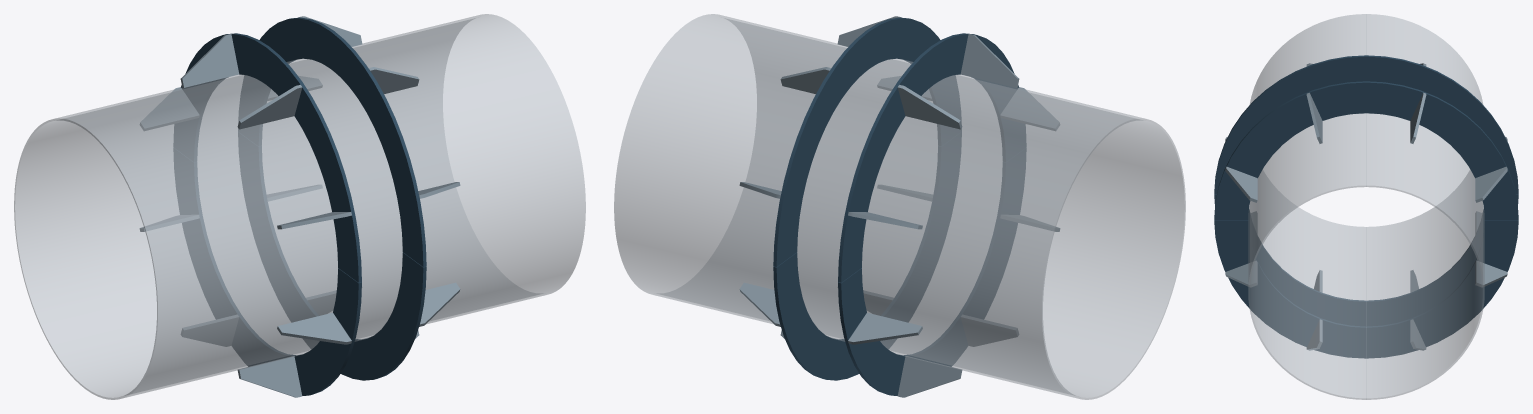
Rendered from TS-666.00.00-21-opora-dn1220-D1570.glb.
The picture shows the model from 3 angles, left to right: view 1: azimuth 30°, elevation 25°; view 2: azimuth 150°, elevation 25°; view 3: azimuth 270°, elevation 25°; orthographic projection. The views are drawn at different scales.
Parts seen in each view (by area): view 1: truba, polukoltso_1, polukoltso_11, polukoltso_16, polukoltso_6, rebro_8, rebro_18, rebro_17, rebro_7, rebro_9, rebro_19, rebro_12 (+1 smaller); view 2: truba, polukoltso_1, polukoltso_11, polukoltso_16, polukoltso_6, rebro_9, rebro_19, rebro_20, rebro_10, rebro_8, rebro_18, rebro_15 (+1 smaller); view 3: truba, polukoltso_1, polukoltso_11, polukoltso_6, polukoltso_16, rebro_2, rebro_5, rebro_12, rebro_15, rebro_3, rebro_4, rebro_13 (+1 smaller).
Boxes of the visible parts, x1=… form: truba: x1=14, y1=14, x2=585, y2=399; polukoltso_1: x1=238, y1=17, x2=426, y2=266; polukoltso_11: x1=238, y1=132, x2=426, y2=380; polukoltso_16: x1=173, y1=148, x2=361, y2=395; polukoltso_6: x1=173, y1=33, x2=361, y2=282; rebro_8: x1=180, y1=34, x2=239, y2=87; rebro_18: x1=237, y1=356, x2=302, y2=397; rebro_17: x1=277, y1=312, x2=351, y2=344; rebro_7: x1=140, y1=87, x2=199, y2=130; rebro_9: x1=237, y1=85, x2=302, y2=129; rebro_19: x1=181, y1=315, x2=238, y2=346; rebro_12: x1=419, y1=282, x2=460, y2=326; truba: x1=614, y1=14, x2=1185, y2=399; polukoltso_1: x1=773, y1=17, x2=961, y2=266; polukoltso_11: x1=773, y1=132, x2=961, y2=380; polukoltso_16: x1=838, y1=148, x2=1026, y2=395; polukoltso_6: x1=838, y1=33, x2=1026, y2=282; rebro_9: x1=960, y1=34, x2=1019, y2=87; rebro_19: x1=897, y1=356, x2=962, y2=397; rebro_20: x1=848, y1=312, x2=922, y2=344; rebro_10: x1=1000, y1=87, x2=1059, y2=130; rebro_8: x1=897, y1=85, x2=962, y2=129; rebro_18: x1=961, y1=315, x2=1018, y2=346; rebro_15: x1=739, y1=282, x2=780, y2=326; truba: x1=1248, y1=14, x2=1484, y2=399; polukoltso_1: x1=1214, y1=81, x2=1518, y2=220; polukoltso_11: x1=1214, y1=220, x2=1518, y2=358; polukoltso_6: x1=1214, y1=55, x2=1518, y2=194; polukoltso_16: x1=1214, y1=194, x2=1518, y2=326; rebro_2: x1=1475, y1=166, x2=1507, y2=202; rebro_5: x1=1225, y1=166, x2=1257, y2=202; rebro_12: x1=1225, y1=260, x2=1257, y2=287; rebro_15: x1=1475, y1=260, x2=1507, y2=287; rebro_3: x1=1410, y1=92, x2=1426, y2=143; rebro_4: x1=1306, y1=92, x2=1322, y2=143; rebro_13: x1=1306, y1=319, x2=1322, y2=350.
Bounding box in the file's own units: 2092 × 1570 × 1570.
